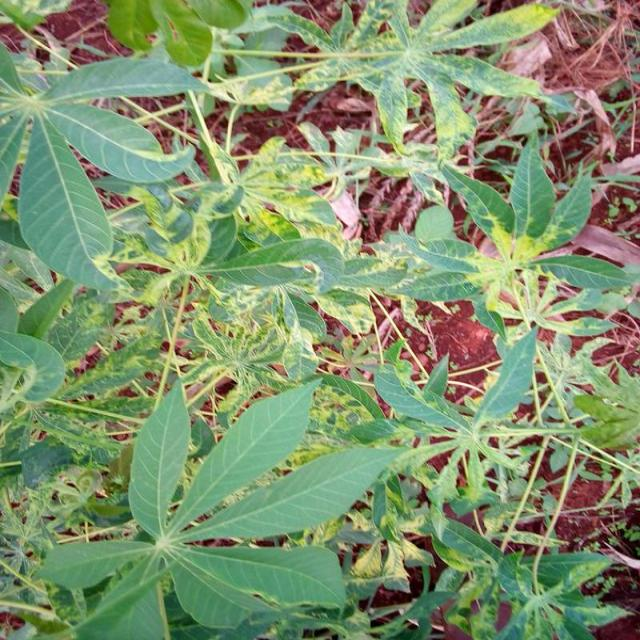cassava leaf: (36, 371, 410, 638), (18, 108, 118, 291)
